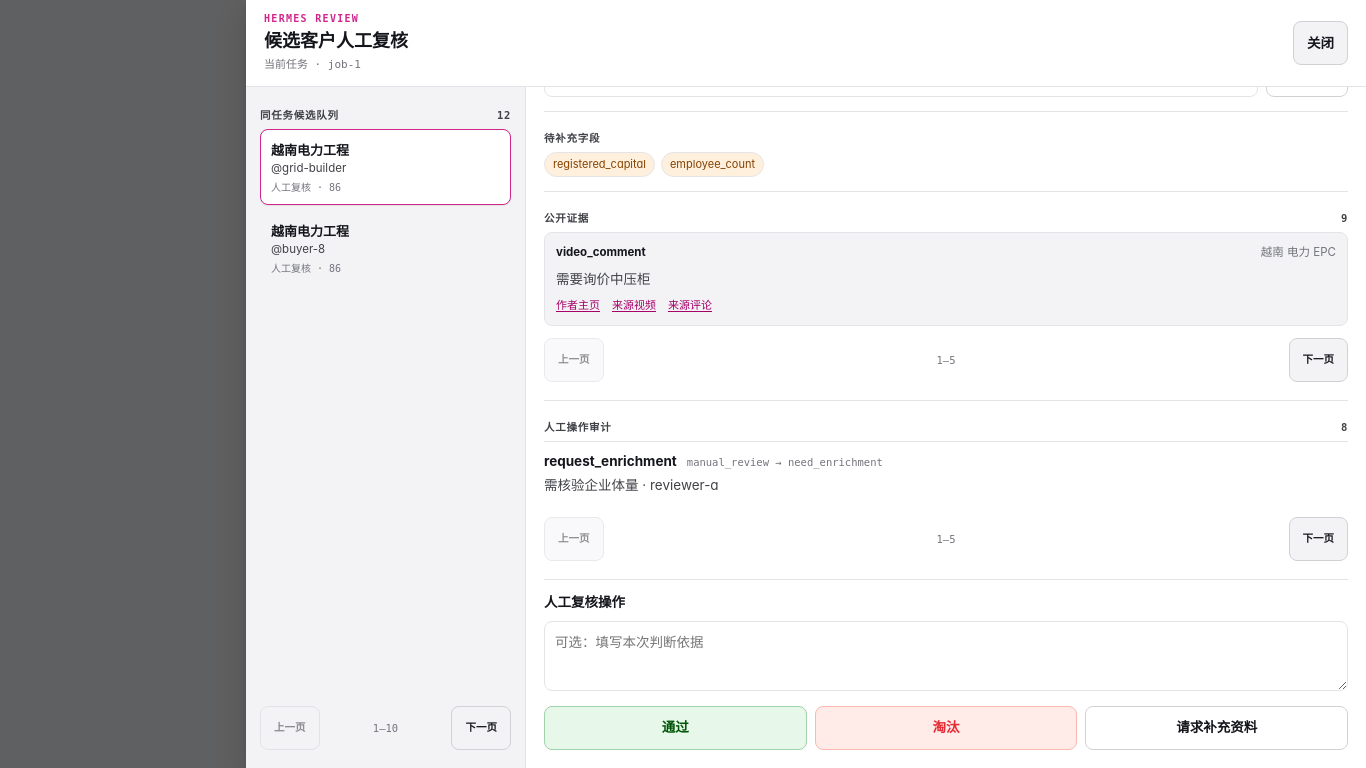
Test: CandidateReviewDrawer › does not report mutation success when an authority reread fails
The image size is (1366, 768).
(page scrolled)
Click the button "通过" at (675, 728), box x1=544 y1=706 x2=807 y2=750
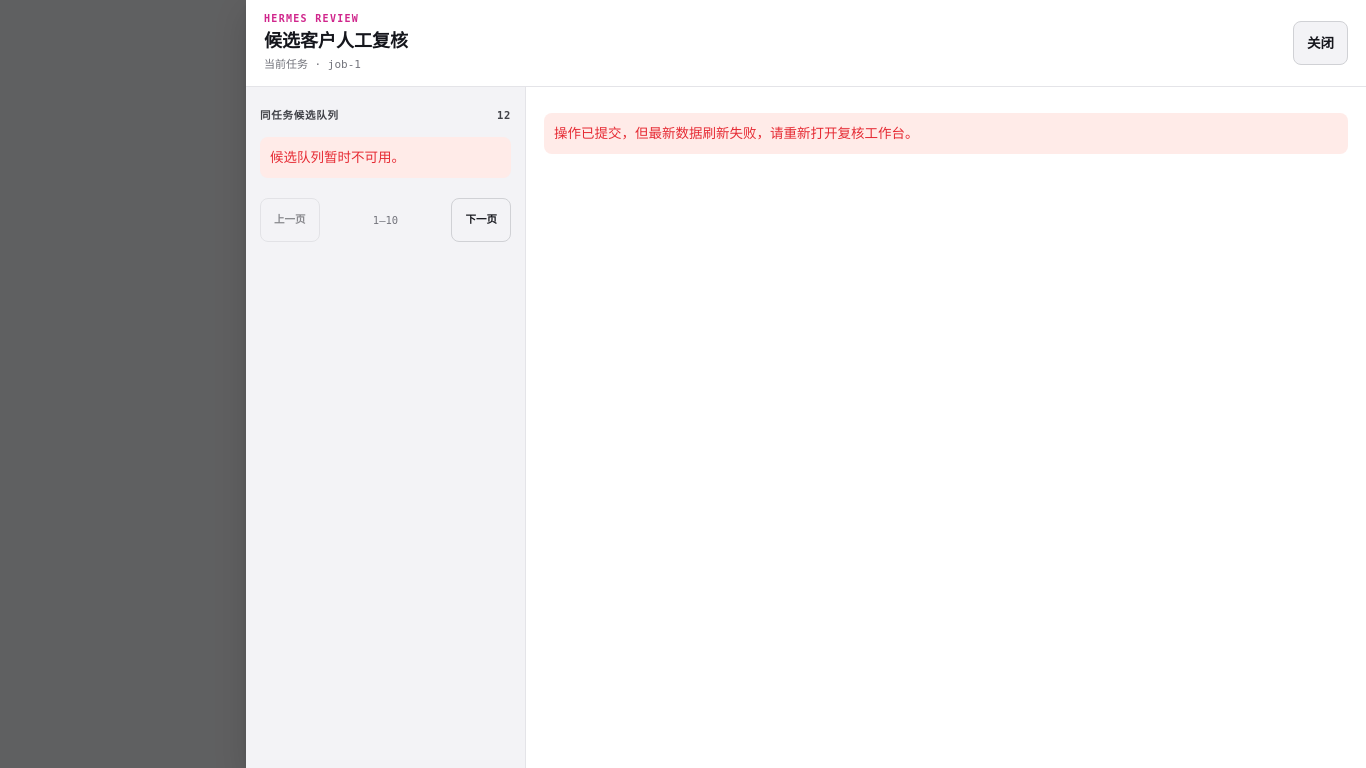
Expected: the message "操作已提交，但最新数据刷新失败，请重新打开复核工作台。" is shown, x1=544 y1=113 x2=1348 y2=154
Expected: the button with class "candidate-detail" no longer shows "@grid-builder"
